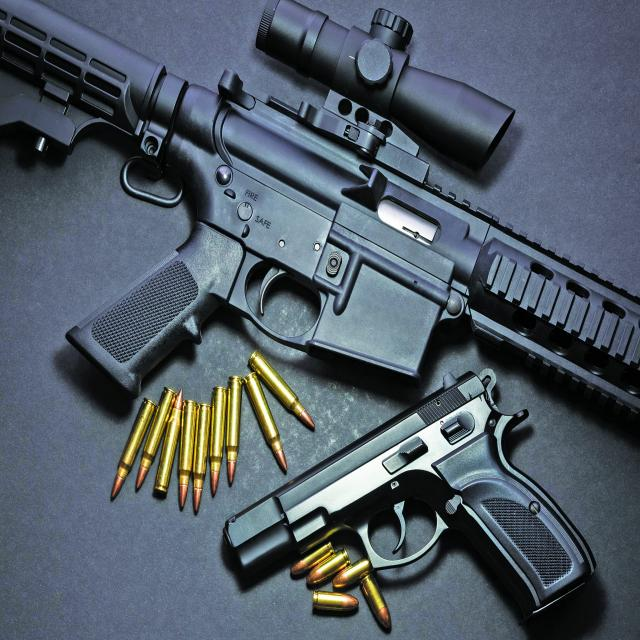gun: (218, 367, 595, 622)
